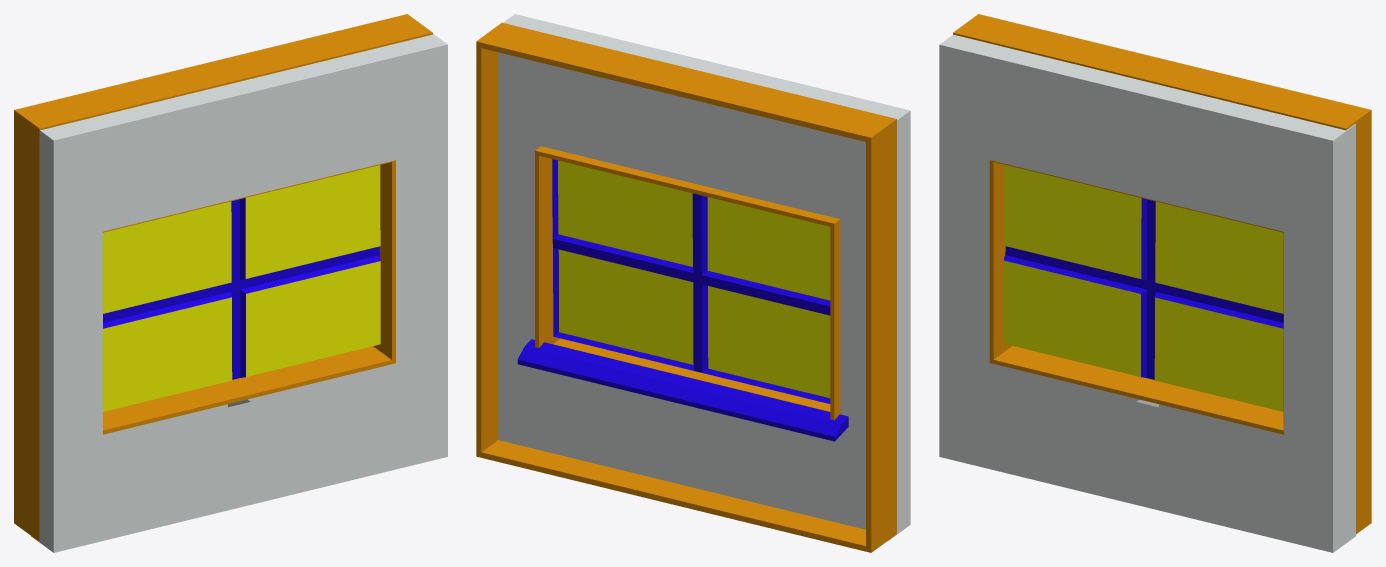
The model's file is Window Wall long 00.fbx.
The picture shows the model from 3 angles, left to right: view 1: azimuth 30°, elevation 25°; view 2: azimuth 150°, elevation 25°; view 3: azimuth 330°, elevation 25°; orthographic projection.
Visible parts, largest first — view 1: Rectangular Window Wall 03.003, Rectangular Long Window Frame Design 01.003, Cube.033, Cube.029; view 2: Rectangular Window Wall 03.003, Rectangular Long Window Frame Design 01.003, Cube.033, Cube.029, Window Lower Curb 02.002; view 3: Rectangular Window Wall 03.003, Rectangular Long Window Frame Design 01.003, Cube.033, Cube.029.
Boxes of the visible parts, bbox=[...] form: Rectangular Window Wall 03.003: bbox=[31, 34, 447, 552]; Rectangular Long Window Frame Design 01.003: bbox=[103, 165, 380, 411]; Cube.033: bbox=[14, 14, 432, 541]; Cube.029: bbox=[103, 160, 395, 434]; Rectangular Window Wall 03.003: bbox=[498, 14, 910, 541]; Rectangular Long Window Frame Design 01.003: bbox=[552, 159, 830, 403]; Cube.033: bbox=[476, 22, 896, 552]; Cube.029: bbox=[535, 146, 840, 420]; Window Lower Curb 02.002: bbox=[517, 339, 848, 441]; Rectangular Window Wall 03.003: bbox=[939, 34, 1355, 552]; Rectangular Long Window Frame Design 01.003: bbox=[1003, 164, 1283, 411]; Cube.033: bbox=[953, 14, 1371, 534]; Cube.029: bbox=[989, 160, 1283, 434].
Size of the model in its own units: 400 by 402 by 69.4.
